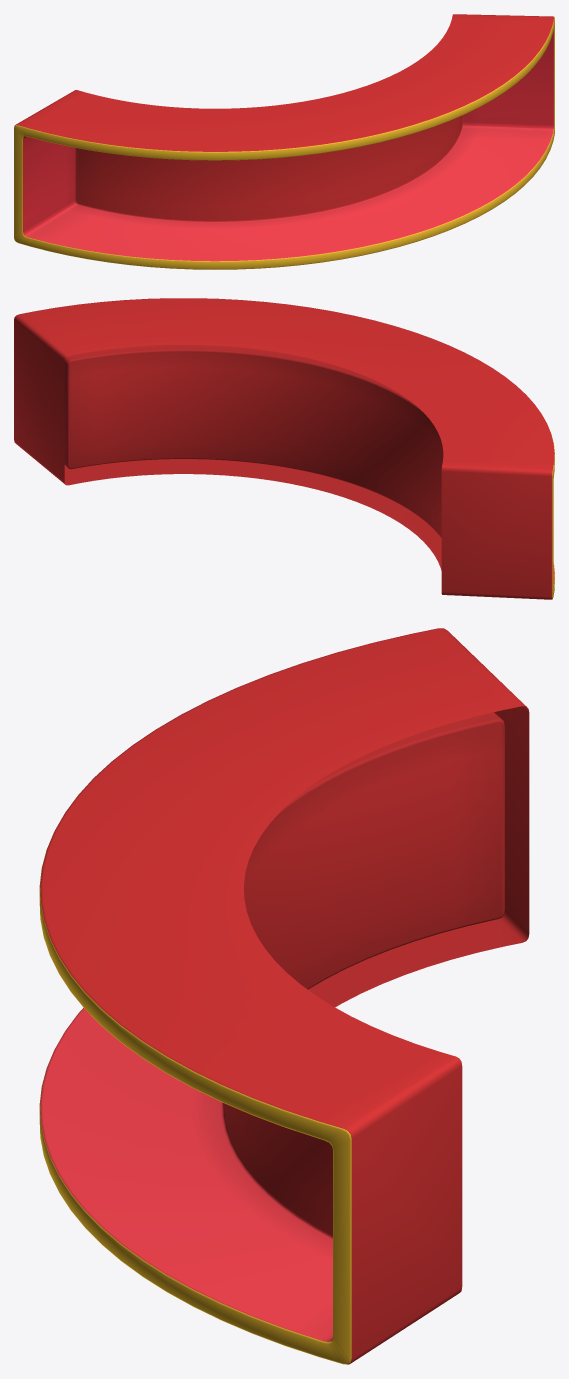
File: guizi_03.FBX
The picture shows the model from 3 angles, top to bottom: view 1: azimuth 30°, elevation 25°; view 2: azimuth 150°, elevation 25°; view 3: azimuth 270°, elevation 25°; orthographic projection. The views are drawn at different scales.
Visible parts, largest first — view 1: guizi_03; view 2: guizi_03; view 3: guizi_03.
Boxes of the visible parts, left/top/right/bottom form: guizi_03: left=14, top=14, right=554, bottom=269; guizi_03: left=14, top=298, right=554, bottom=599; guizi_03: left=39, top=628, right=529, bottom=1364.
Bounding box in the file's own units: 773 × 169 × 317.
1 material, 1 textured.
